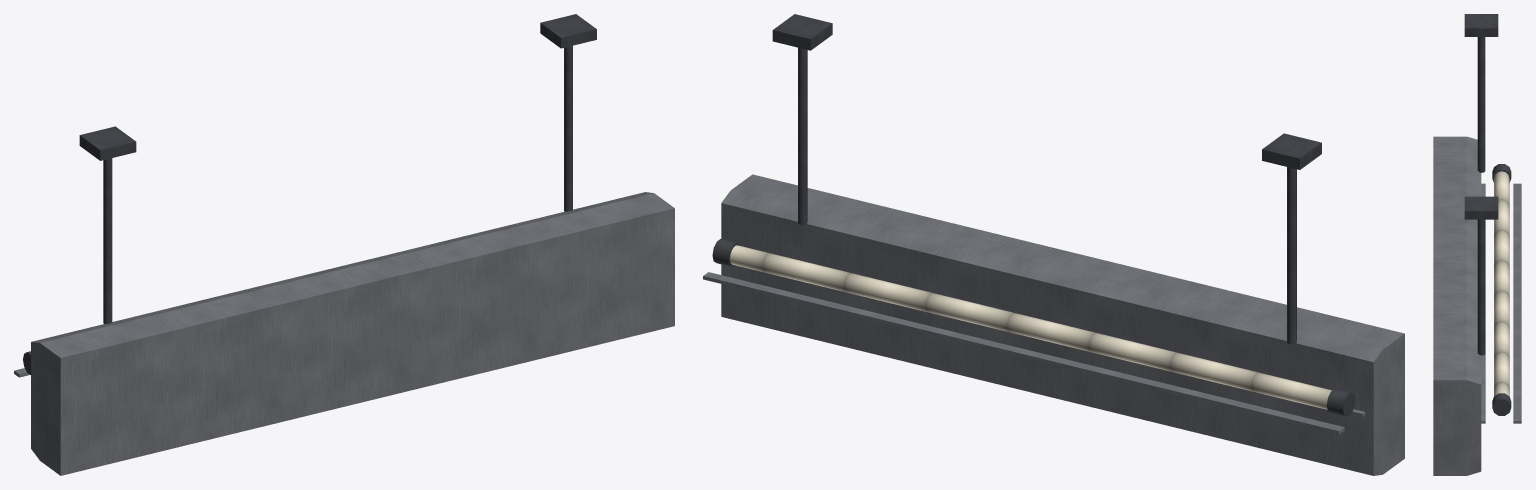
The model's file is ceiling_lamp.obj.
3 views of the same model, side by side, from view 1: azimuth 30°, elevation 25°; view 2: azimuth 150°, elevation 25°; view 3: azimuth 270°, elevation 25° (orthographic). The views are drawn at different scales.
Parts seen in each view (by area): view 1: ceiling_lamp; view 2: ceiling_lamp; view 3: ceiling_lamp.
Boxes of the visible parts, x1,y1,x2,y2 form: ceiling_lamp: [14, 14, 674, 475]; ceiling_lamp: [703, 14, 1404, 475]; ceiling_lamp: [1433, 14, 1521, 475].
Size of the model in its own units: 2.4 by 1.11 by 0.3675.
